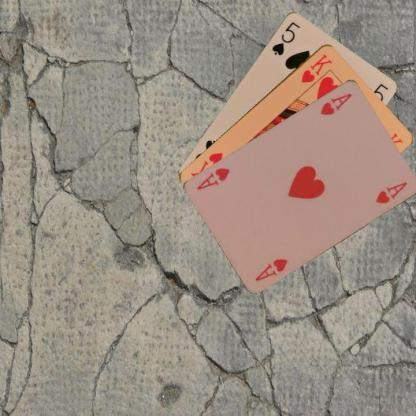5s: (269, 18, 302, 56)
Ah: (253, 255, 291, 282), (317, 90, 353, 116)
Kh: (298, 51, 334, 84)
